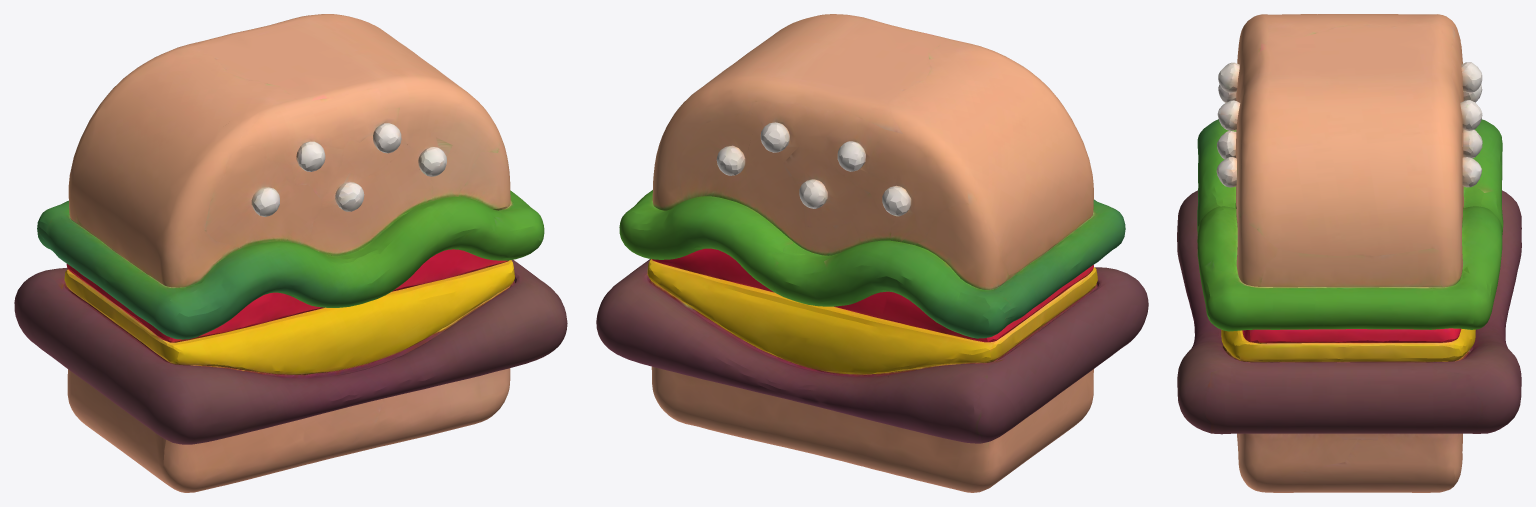
File: hamburger.glb
3 views of the same model, side by side, from view 1: azimuth 30°, elevation 25°; view 2: azimuth 150°, elevation 25°; view 3: azimuth 270°, elevation 25° (orthographic).
Parts seen in each view (by area): view 1: model; view 2: model; view 3: model.
Part boxes in pixels (box(x1,y1,x2,y2)): model: box(14, 14, 567, 492); model: box(596, 14, 1148, 492); model: box(1177, 14, 1521, 492).
Bounding box in the file's own units: 1 × 0.8473 × 0.7164.
Materials: 1 (1 with a texture image).
